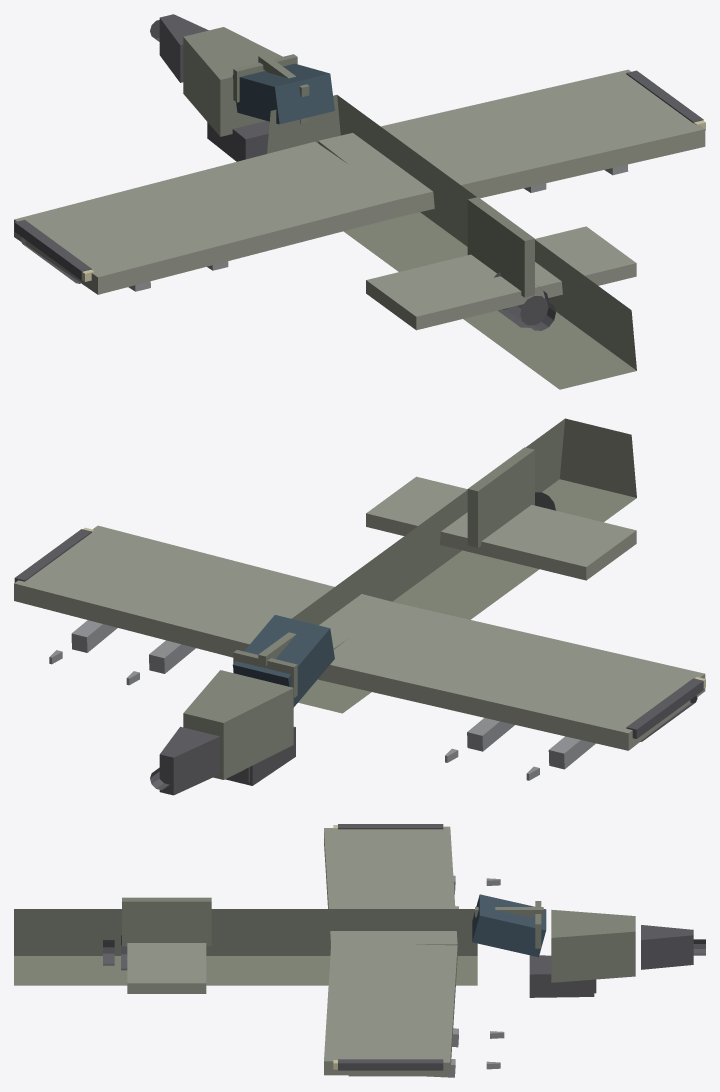
File: chinese_aircraft.glb
3 renders of one model, top to bottom at view 1: azimuth 30°, elevation 25°; view 2: azimuth 150°, elevation 25°; view 3: azimuth 270°, elevation 25°, orthographic. The views are drawn at different scales.
Visible parts, largest first — view 1: WingL, hull, WingR, Tail, Canopy, Fin, Nose, Intakes, RailL, Nozzles, CanopyFrame, RailR; view 2: hull, WingL, WingR, Tail, Canopy, Fin, Nose, StoreL, StoreR, RailL, CanopyFrame, Intakes (+1 smaller); view 3: hull, WingR, WingL, Fin, Tail, Canopy, Nose, Intakes, RailR, CanopyFrame, RailL, Nozzles (+1 smaller).
Boxes of the visible parts, x1=… form: WingL: x1=14, y1=141, x2=398, y2=294; hull: x1=183, y1=27, x2=636, y2=389; WingR: x1=318, y1=69, x2=705, y2=217; Tail: x1=366, y1=226, x2=636, y2=330; Canopy: x1=232, y1=63, x2=334, y2=124; Fin: x1=467, y1=197, x2=534, y2=297; Nose: x1=150, y1=14, x2=208, y2=82; Intakes: x1=207, y1=121, x2=269, y2=161; RailL: x1=14, y1=220, x2=91, y2=283; Nozzles: x1=494, y1=272, x2=555, y2=330; CanopyFrame: x1=233, y1=54, x2=309, y2=123; RailR: x1=626, y1=70, x2=703, y2=123; hull: x1=183, y1=418, x2=636, y2=779; WingL: x1=318, y1=602, x2=705, y2=750; WingR: x1=14, y1=525, x2=394, y2=657; Tail: x1=366, y1=476, x2=636, y2=580; Canopy: x1=232, y1=615, x2=334, y2=707; Fin: x1=467, y1=447, x2=534, y2=547; Nose: x1=150, y1=726, x2=219, y2=795; StoreL: x1=445, y1=718, x2=595, y2=780; StoreR: x1=49, y1=620, x2=195, y2=685; RailL: x1=626, y1=678, x2=703, y2=742; CanopyFrame: x1=233, y1=632, x2=297, y2=697; Intakes: x1=225, y1=726, x2=295, y2=785; hull: x1=14, y1=909, x2=635, y2=985; WingR: x1=324, y1=944, x2=457, y2=1076; WingL: x1=324, y1=826, x2=457, y2=948; Fin: x1=122, y1=897, x2=211, y2=946; Tail: x1=127, y1=943, x2=206, y2=993; Canopy: x1=472, y1=894, x2=546, y2=957; Nose: x1=641, y1=925, x2=705, y2=969; Intakes: x1=529, y1=955, x2=596, y2=997; RailR: x1=338, y1=1059, x2=443, y2=1076; CanopyFrame: x1=475, y1=901, x2=543, y2=948; RailL: x1=338, y1=824, x2=443, y2=829; Nozzles: x1=103, y1=935, x2=127, y2=970.
Size of the model in its own units: 9.68 by 1.67 by 11.82.
